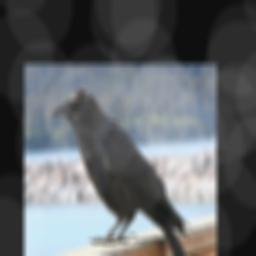Crow: (50, 89, 192, 256)
